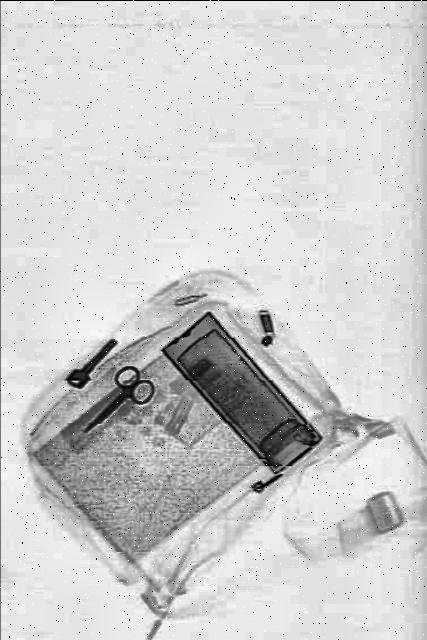Scissors: (75, 351, 159, 449)
